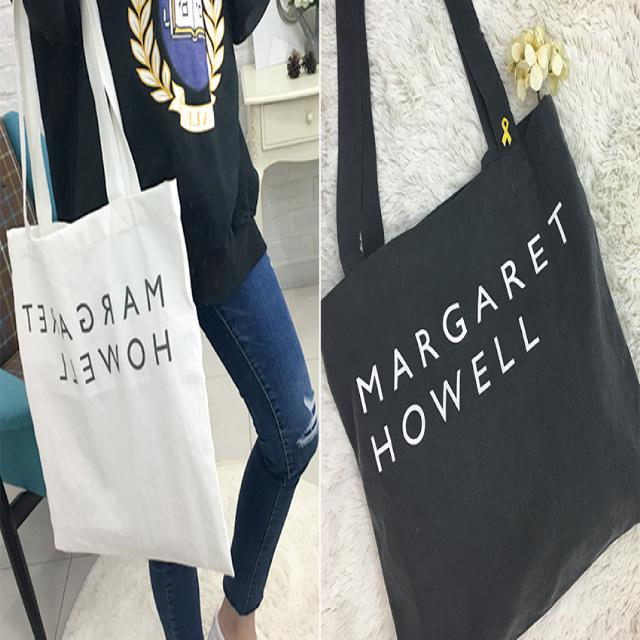ecobag: (6, 5, 244, 594)
